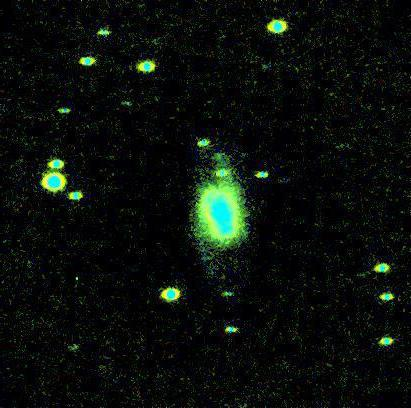star: (204, 140, 234, 170)
